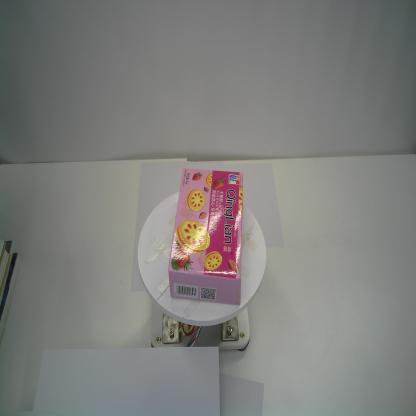Dessert: (168, 167, 243, 305)
